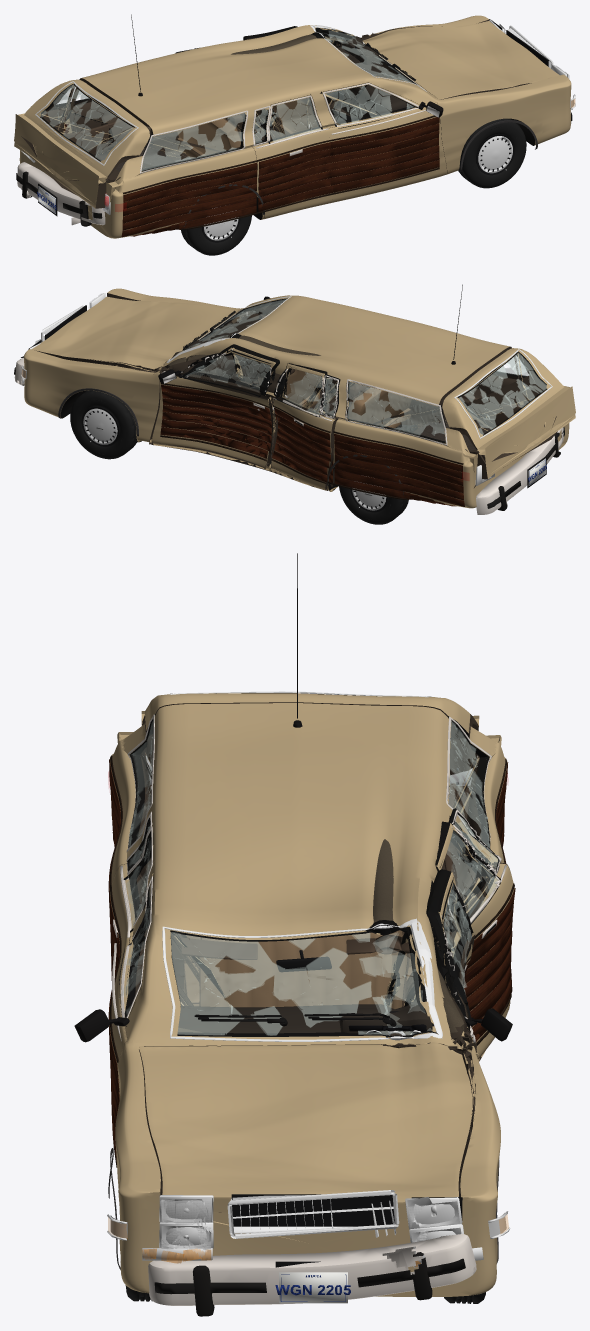
Rendered from wagon82_side_d1_lod1.glb.
The picture shows the model from 3 angles, top to bottom: view 1: azimuth 30°, elevation 25°; view 2: azimuth 150°, elevation 25°; view 3: azimuth 270°, elevation 25°; orthographic projection. The views are drawn at different scales.
Parts seen in each view (by area): view 1: Body, Hood, Trim, Tailgate, Interior, Trim_FR, Trim_RR, Glass, Wheel_FR_mesh, Door_FR, Glass_Tailgate, Door_RR (+5 smaller); view 2: Body, Hood, Trim, Tailgate, Trim_FL, Interior, Glass, Door_FL, Wheel_FL_mesh, Trim_RL, Glass_Tailgate, Bumper_R (+5 smaller); view 3: Body, Hood, Glass, Interior, Ends, Bumper_F, Tailgate, Trim_RL, Trim, Glass_RL, Door_FL, Door_RL (+9 smaller).
Boxes of the visible parts, left/top/right/bottom form: Body: left=18, top=15, right=571, bottom=238; Hood: left=361, top=21, right=559, bottom=99; Trim: left=63, top=14, right=537, bottom=237; Tailgate: left=14, top=79, right=149, bottom=208; Interior: left=64, top=36, right=411, bottom=171; Trim_FR: left=323, top=83, right=443, bottom=194; Trim_RR: left=252, top=95, right=333, bottom=212; Glass: left=60, top=25, right=426, bottom=171; Wheel_FR_mesh: left=458, top=118, right=526, bottom=188; Door_FR: left=322, top=82, right=446, bottom=202; Glass_Tailgate: left=35, top=81, right=138, bottom=165; Door_RR: left=252, top=94, right=332, bottom=218; Body: left=24, top=288, right=570, bottom=508; Hood: left=31, top=296, right=239, bottom=371; Trim: left=58, top=284, right=520, bottom=506; Tailgate: left=442, top=348, right=575, bottom=479; Trim_FL: left=158, top=349, right=271, bottom=461; Interior: left=173, top=316, right=522, bottom=451; Glass: left=167, top=296, right=528, bottom=435; Door_FL: left=151, top=344, right=279, bottom=469; Wheel_FL_mesh: left=70, top=390, right=137, bottom=459; Trim_RL: left=271, top=369, right=338, bottom=483; Glass_Tailgate: left=454, top=349, right=552, bottom=438; Bumper_R: left=476, top=427, right=564, bottom=514; Body: left=109, top=703, right=507, bottom=1296; Hood: left=139, top=1042, right=473, bottom=1219; Glass: left=128, top=714, right=489, bottom=1041; Interior: left=178, top=783, right=456, bottom=1035; Ends: left=107, top=756, right=510, bottom=1303; Bumper_F: left=148, top=1234, right=476, bottom=1316; Tailgate: left=141, top=693, right=479, bottom=825; Trim_RL: left=448, top=809, right=515, bottom=1045; Trim: left=108, top=553, right=508, bottom=1269; Glass_RL: left=437, top=808, right=500, bottom=937; Door_FL: left=426, top=869, right=477, bottom=1056; Door_RL: left=435, top=821, right=514, bottom=1059.
Bounding box in the file's own units: 5.01 × 2.12 × 1.95.
35 materials, 6 textured.
